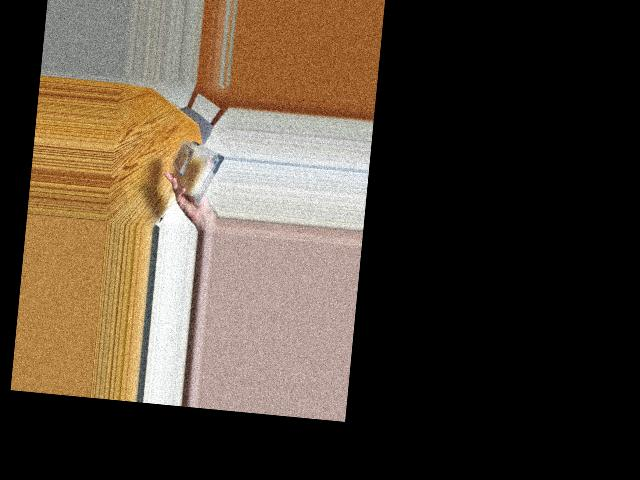cheese: (169, 139, 221, 199)
